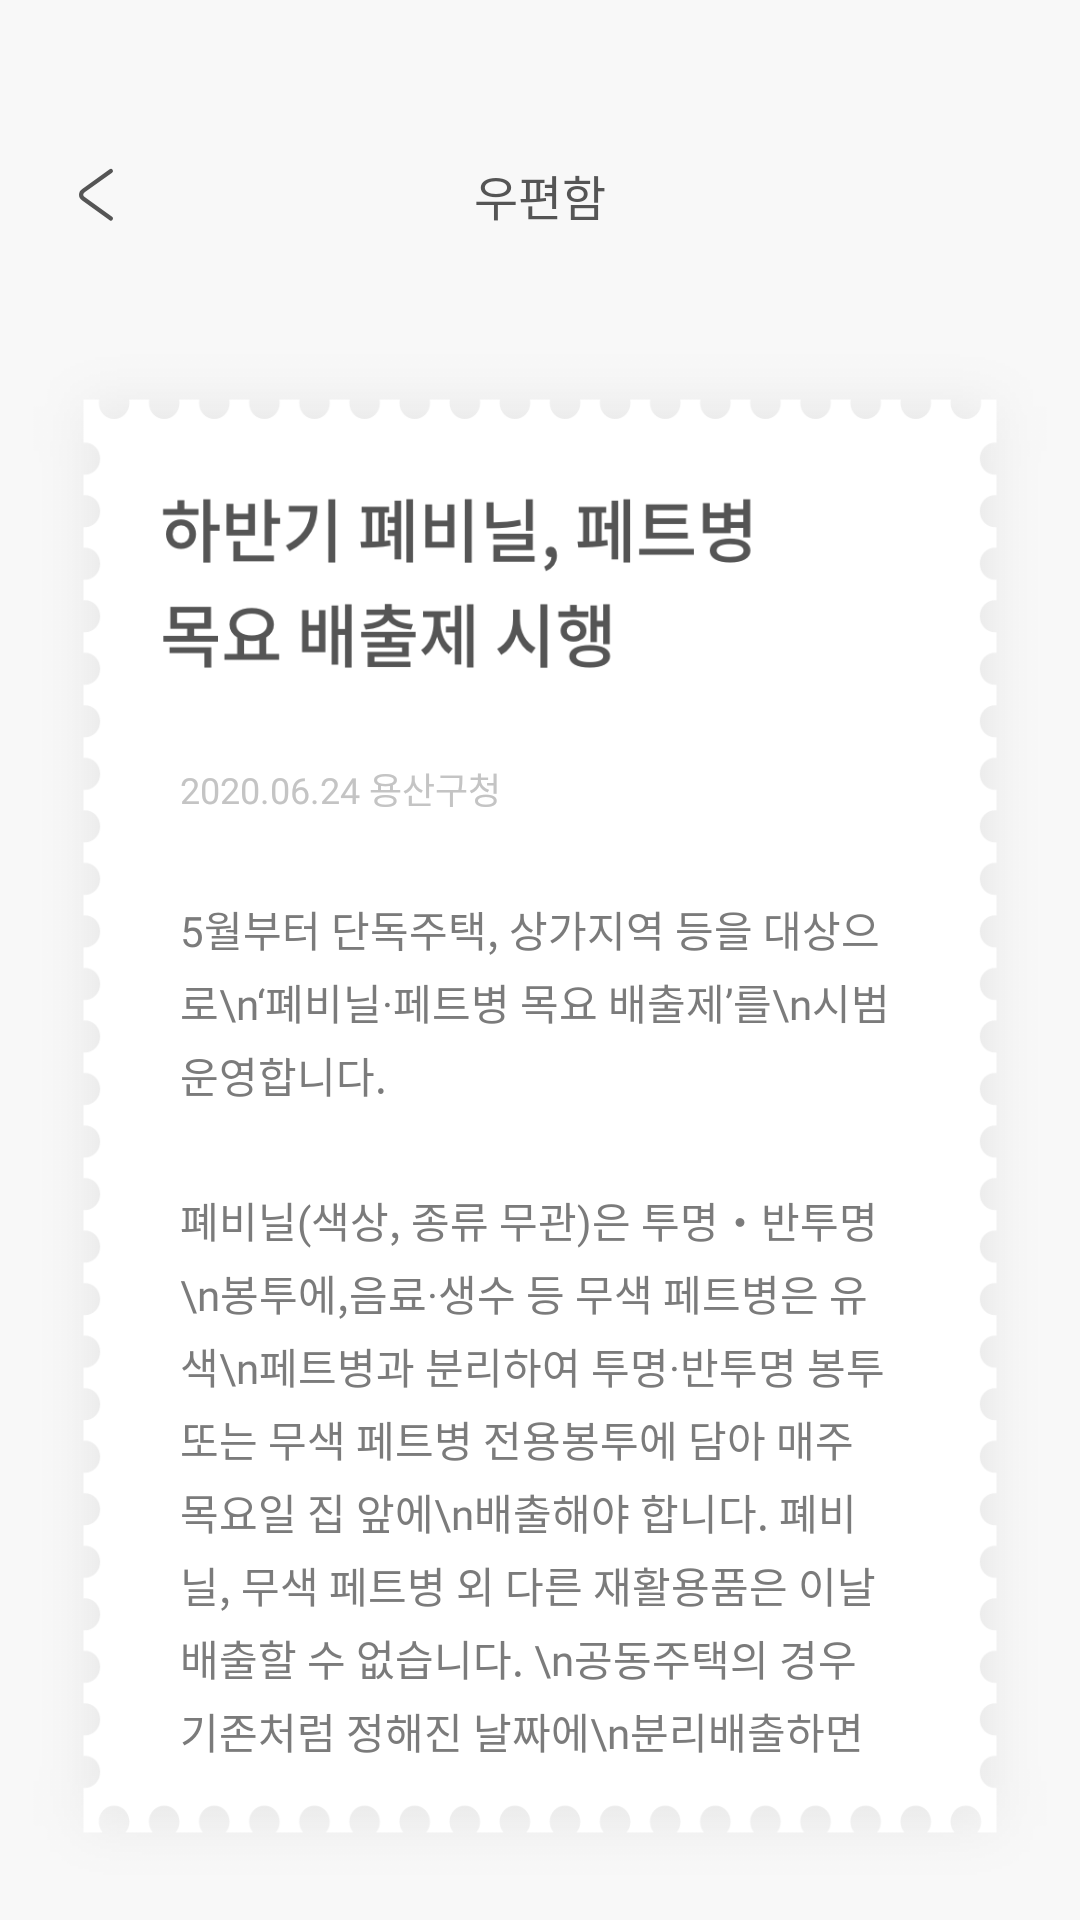

Icons on this 1080x1920 Android screen, each with the point to tap as [x,y]:
arrow back: [96,195]
